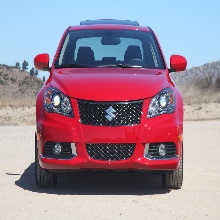no damage: (34, 18, 187, 190)
